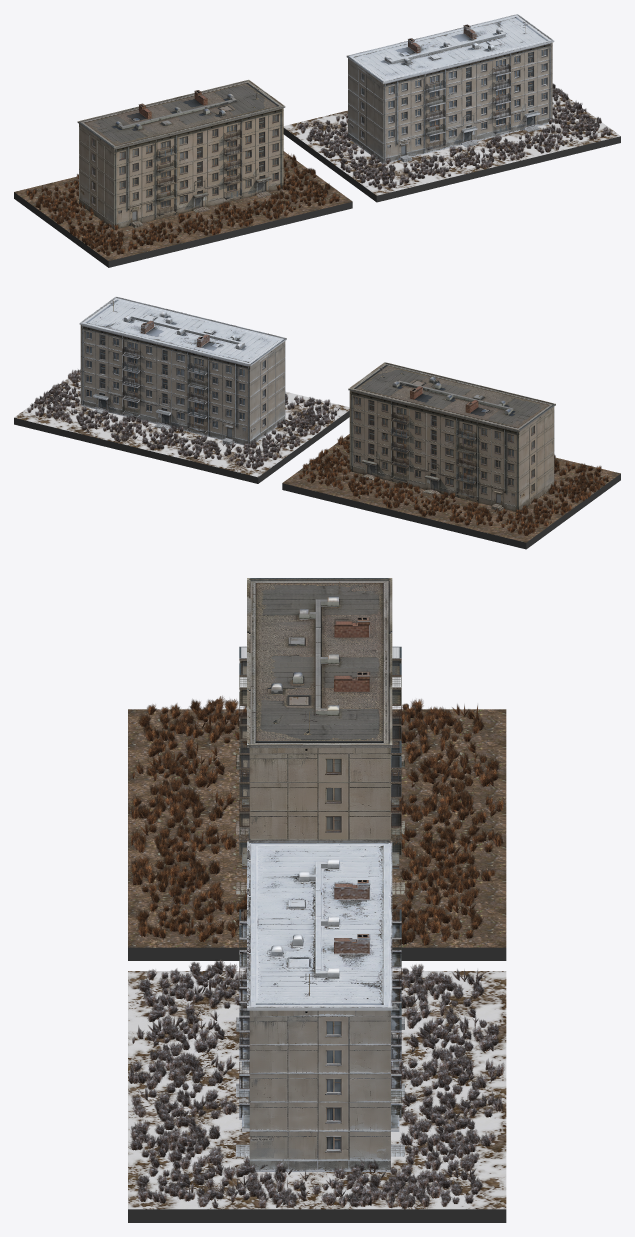
Rendered from soviet_building.glb.
3 renders of one model, top to bottom at view 1: azimuth 30°, elevation 25°; view 2: azimuth 150°, elevation 25°; view 3: azimuth 270°, elevation 25°, orthographic. The views are drawn at different scales.
Visible parts, largest first — view 1: Cube_0, Cube.001_1, Plane.001_5, Grass_Autumn.007_3, Grass_Autumn.001_2, Plane_4, Plane.002_6, Plane.003_7; view 2: Cube_0, Cube.001_1, Grass_Autumn.001_2, Grass_Autumn.007_3, Plane.001_5, Plane_4, Plane.002_6, Plane.003_7; view 3: Cube.001_1, Cube_0, Grass_Autumn.001_2, Plane_4, Plane.001_5, Grass_Autumn.007_3, Plane.003_7, Plane.002_6.
Boxes of the visible parts, <box> form: Cube_0: <box>77,79,285,229</box>; Cube.001_1: <box>346,14,554,163</box>; Plane.001_5: <box>14,151,352,260</box>; Grass_Autumn.007_3: <box>26,151,339,255</box>; Grass_Autumn.001_2: <box>297,83,611,189</box>; Plane_4: <box>283,88,620,195</box>; Plane.002_6: <box>14,192,352,267</box>; Plane.003_7: <box>283,128,620,202</box>; Cube_0: <box>348,362,555,511</box>; Cube.001_1: <box>79,296,286,445</box>; Grass_Autumn.001_2: <box>27,369,340,469</box>; Grass_Autumn.007_3: <box>299,435,609,535</box>; Plane.001_5: <box>282,434,620,542</box>; Plane_4: <box>14,369,349,477</box>; Plane.002_6: <box>282,474,620,549</box>; Plane.003_7: <box>14,410,349,483</box>; Cube.001_1: <box>236,840,404,1171</box>; Cube_0: <box>236,578,404,894</box>; Grass_Autumn.001_2: <box>128,959,504,1208</box>; Plane_4: <box>128,971,506,1209</box>; Plane.001_5: <box>128,709,506,947</box>; Grass_Autumn.007_3: <box>129,696,504,945</box>; Plane.003_7: <box>128,1209,506,1222</box>; Plane.002_6: <box>128,947,506,960</box>.
Bounding box in the file's own units: 1.85 × 0.343 × 0.5902.
8 materials, 7 textured.
